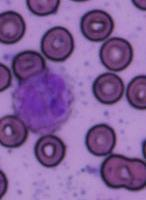E: (13, 64, 75, 136)
